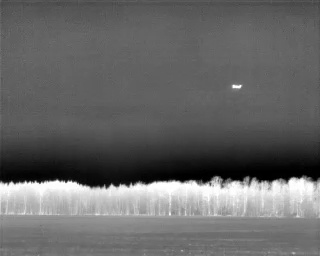DRONE: (228, 80, 246, 93)
